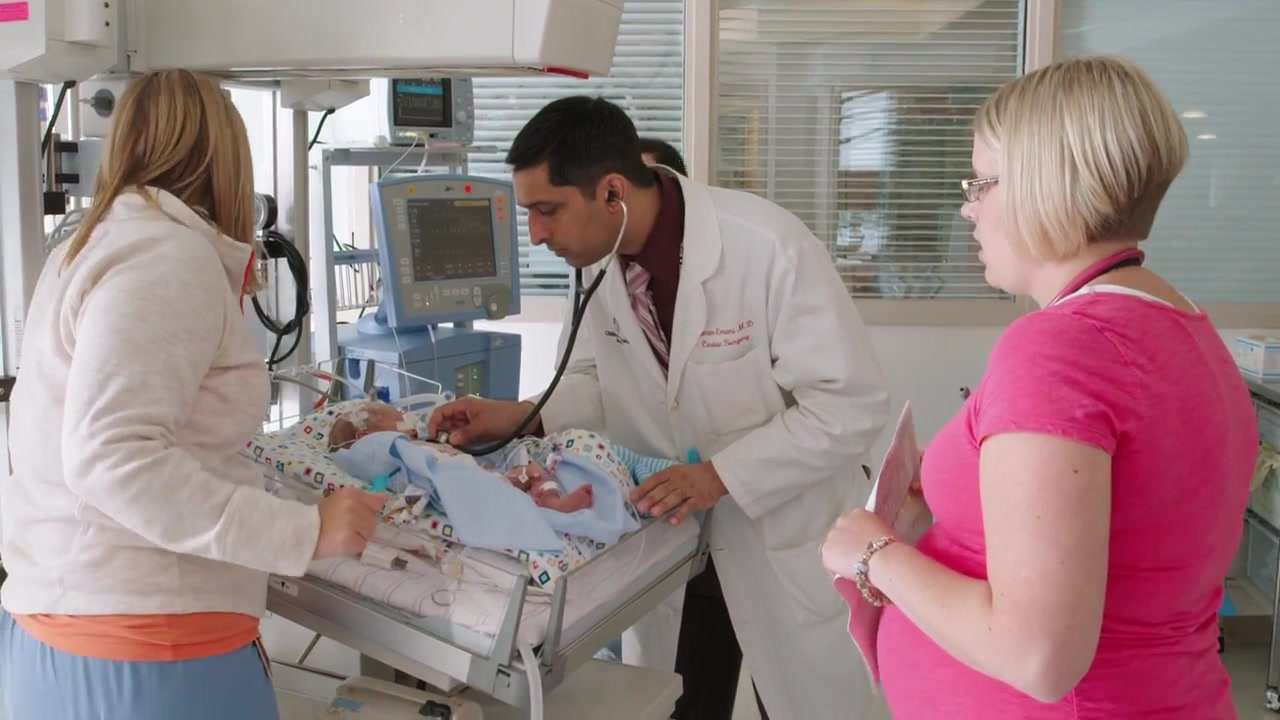bedside_monitor: (367, 172, 521, 328), (380, 77, 476, 144)
panda_baby_warmer: (1, 1, 705, 708)
patient: (326, 398, 595, 514)
staff: (823, 53, 1260, 720), (429, 94, 891, 720)
visitor: (1, 68, 392, 720)
